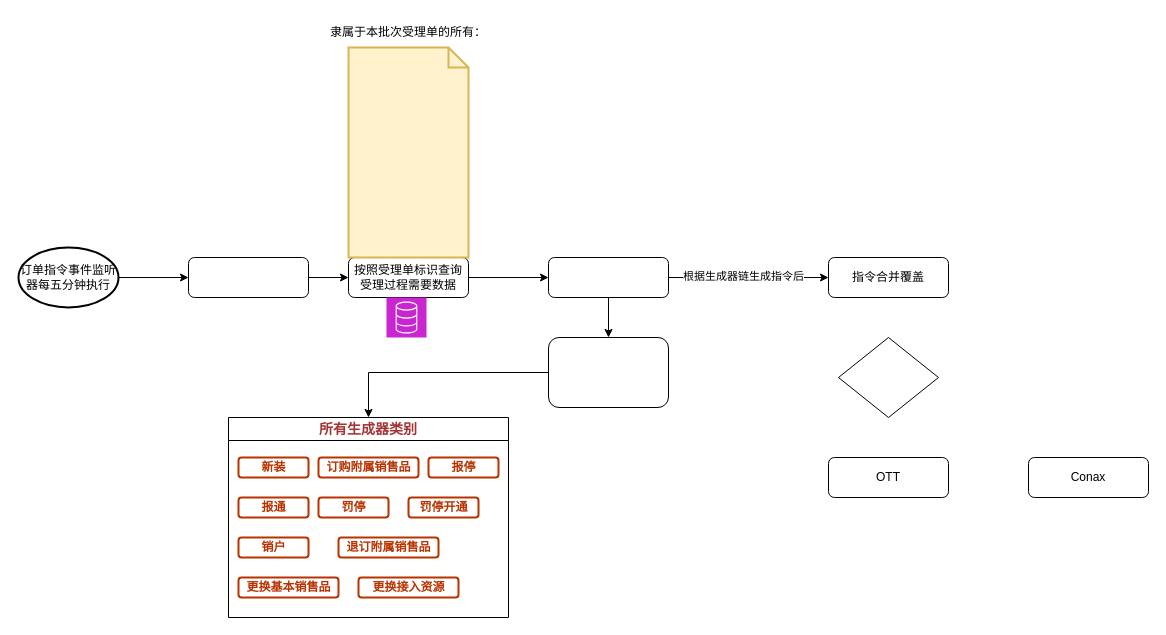
Image size: 1166x635. Some labels were removed from this diagram. Each missing label, with the centre of its shape:
- 订单 - 销售品订单项 - 用户订单项 - 产品订单项 - 接入资源订单项 - 用户 - 产品实例 - 销售品实例 - 接入资源 - 客户 - 开通设备: (408,152)
判断设备指令对应设备类型: (888,377)
处理消息为订单指令发送事件: (248,277)
根据同一受理单下订单不同的订单动作类型构建生成器链: (608,372)
根据该过程所有数据生成指令: (608,277)
